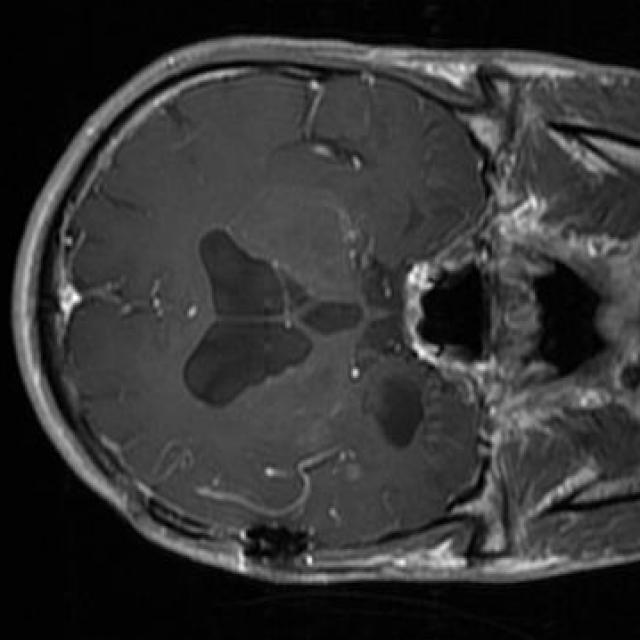glioma: (371, 373, 430, 449)
